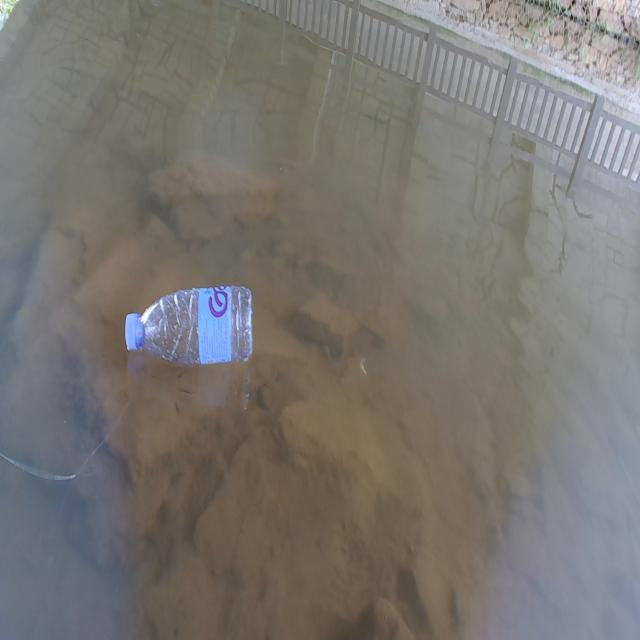bottle: (110, 254, 273, 393)
